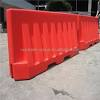barrier: (6, 7, 79, 84), (77, 13, 99, 50)
